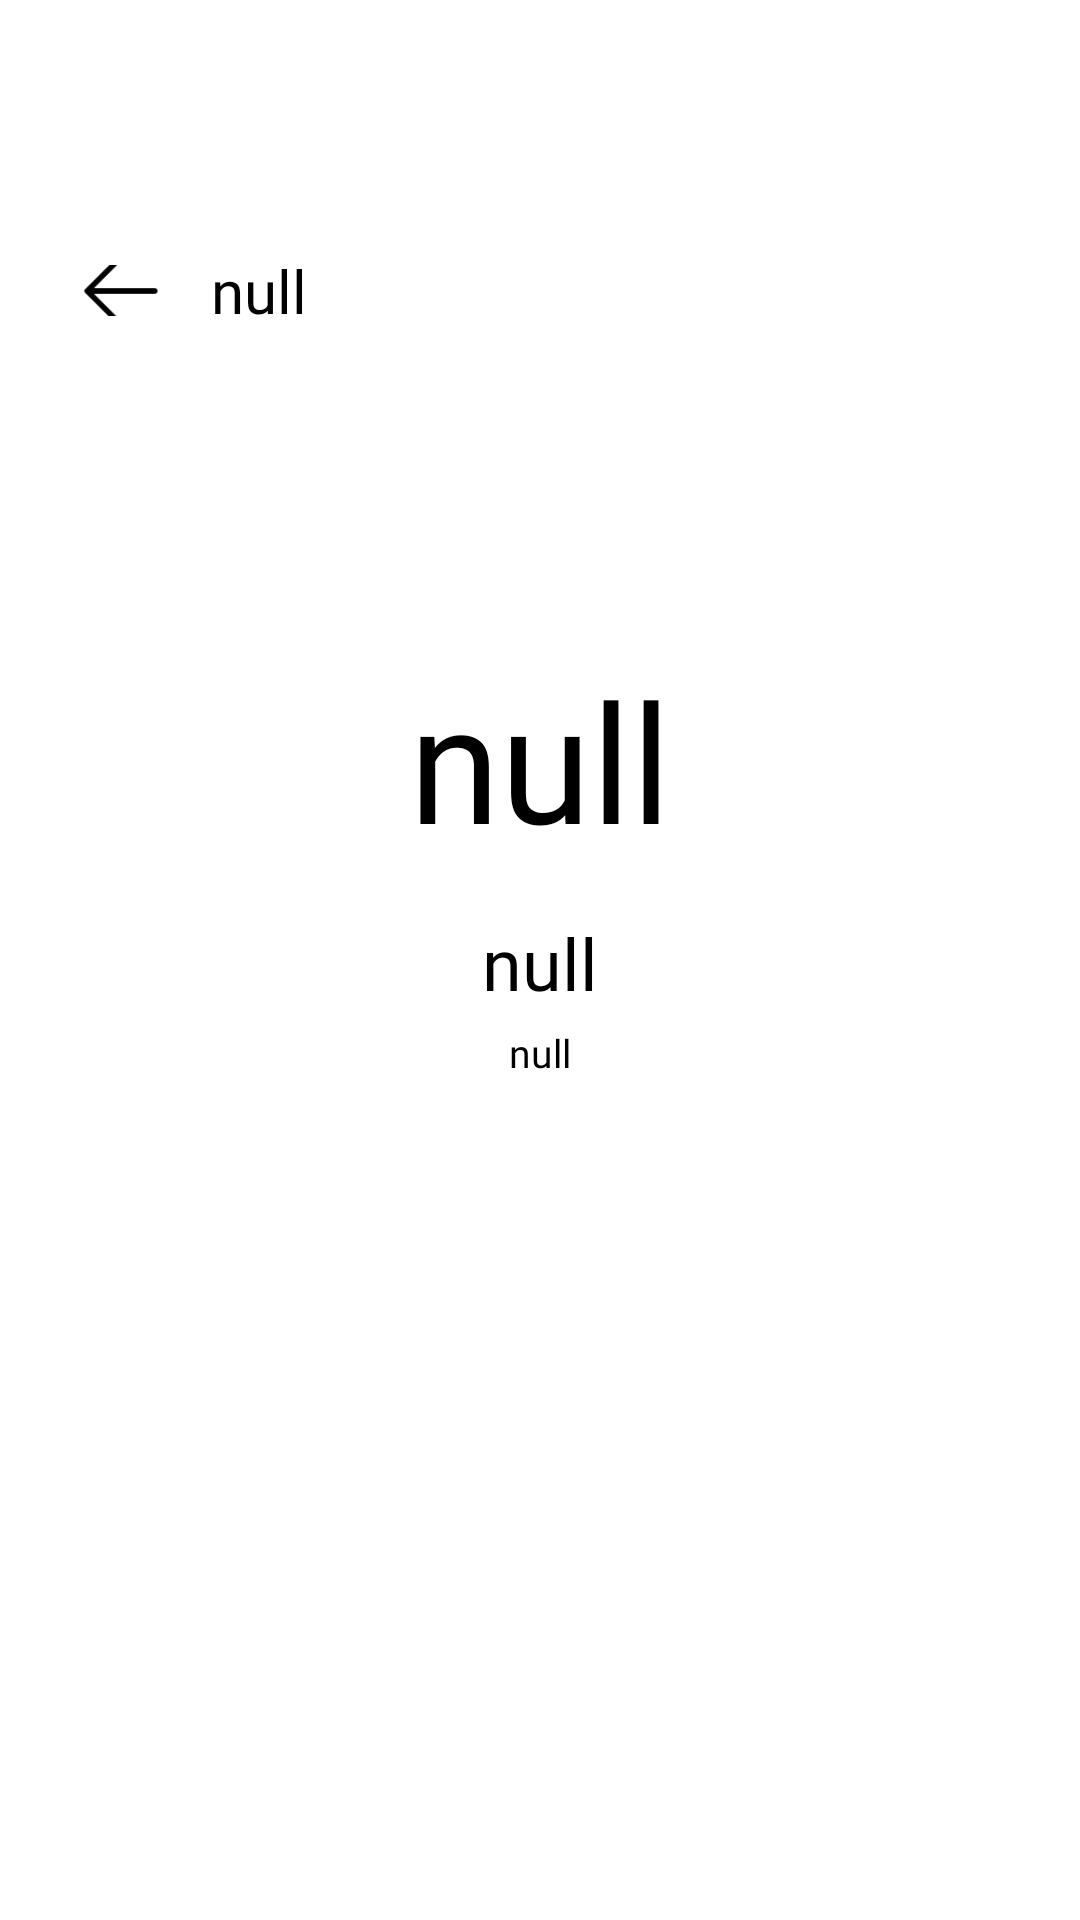

Icons on this 1080×1920 Android screen, each with its box as (x1, y1, x2, y2):
arrow left: (84, 265, 158, 316)
